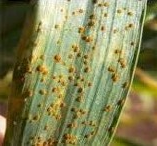Leaf Rust: (22, 20, 129, 145)
